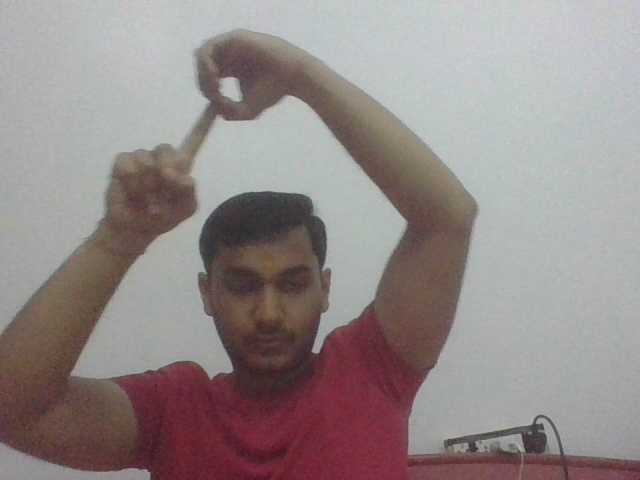Q: (142, 27, 266, 190)
